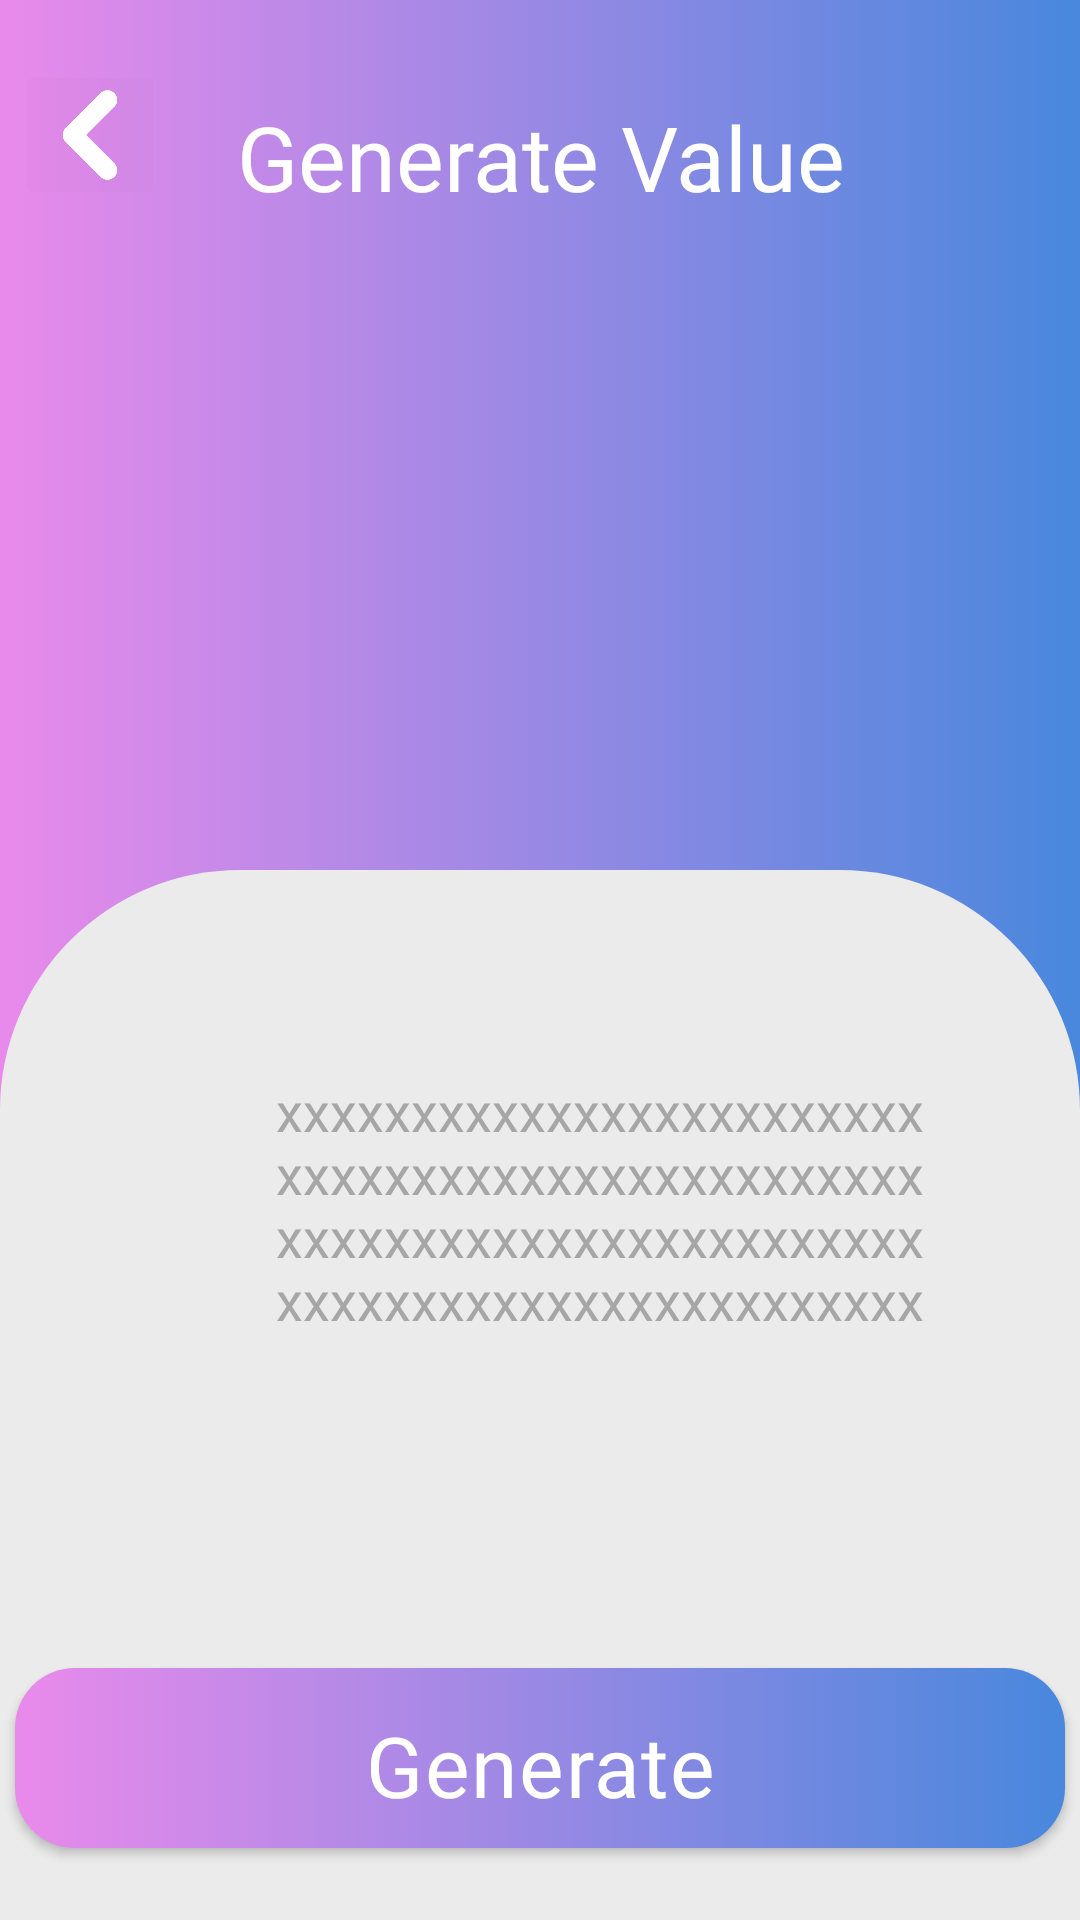

Where to tap for icons on this 1080x1920 app screen, as (x,y):
back: (109,135)
